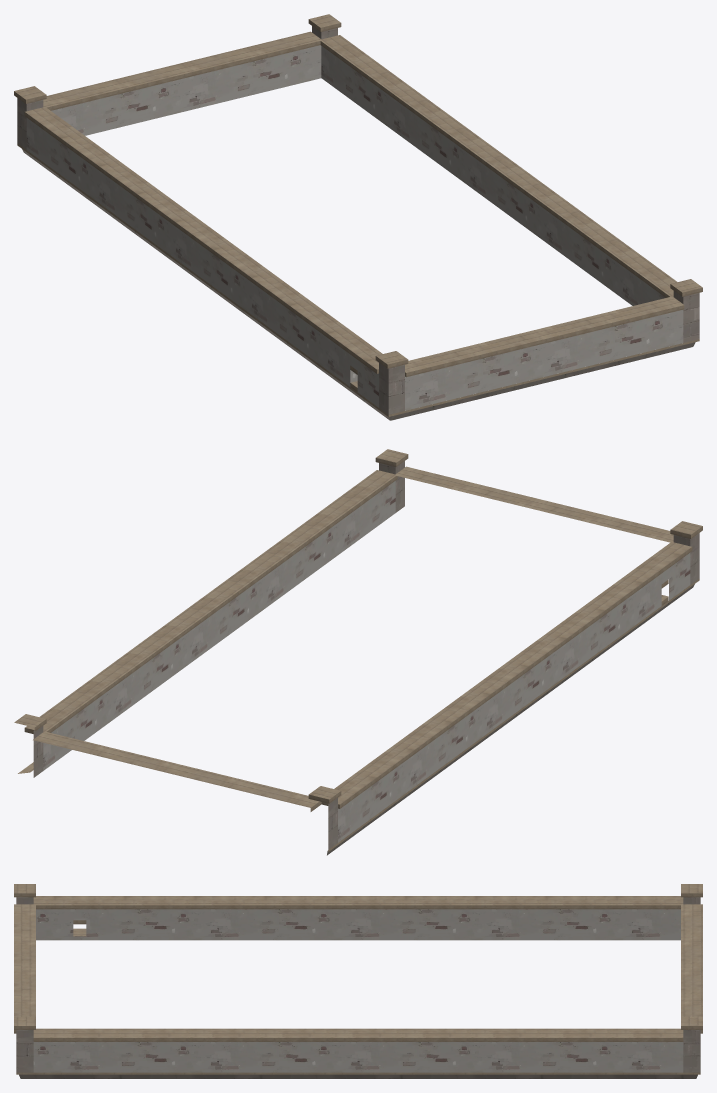
The picture shows the model from 3 angles, top to bottom: view 1: azimuth 30°, elevation 25°; view 2: azimuth 150°, elevation 25°; view 3: azimuth 270°, elevation 25°; orthographic projection. The views are drawn at different scales.
Visible parts, largest first — view 1: body0_model0_lod0_mesh2, body0_model0_lod0_mesh1, body0_model0_lod0_mesh0; view 2: body0_model0_lod0_mesh1, body0_model0_lod0_mesh2, body0_model0_lod0_mesh0; view 3: body0_model0_lod0_mesh2, body0_model0_lod0_mesh1, body0_model0_lod0_mesh0.
Part boxes in pixels (x1,y1,x2,y2): body0_model0_lod0_mesh2: [26, 45, 683, 410]; body0_model0_lod0_mesh1: [14, 14, 702, 416]; body0_model0_lod0_mesh0: [17, 26, 699, 420]; body0_model0_lod0_mesh1: [14, 449, 702, 851]; body0_model0_lod0_mesh2: [43, 481, 690, 842]; body0_model0_lod0_mesh0: [33, 461, 699, 855]; body0_model0_lod0_mesh2: [33, 909, 683, 1072]; body0_model0_lod0_mesh1: [14, 884, 702, 1074]; body0_model0_lod0_mesh0: [16, 897, 700, 1078].
Size of the model in its own units: 612 by 112 by 1256.
Materials: 3 (3 with a texture image).
